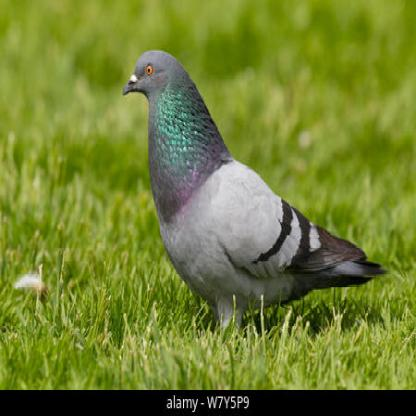Rock Pigeon: (117, 51, 382, 319)
